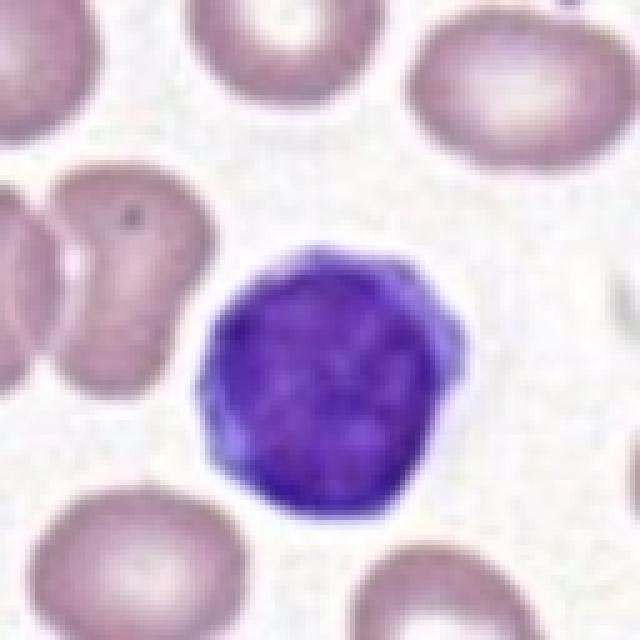lympho: (192, 241, 475, 525)
